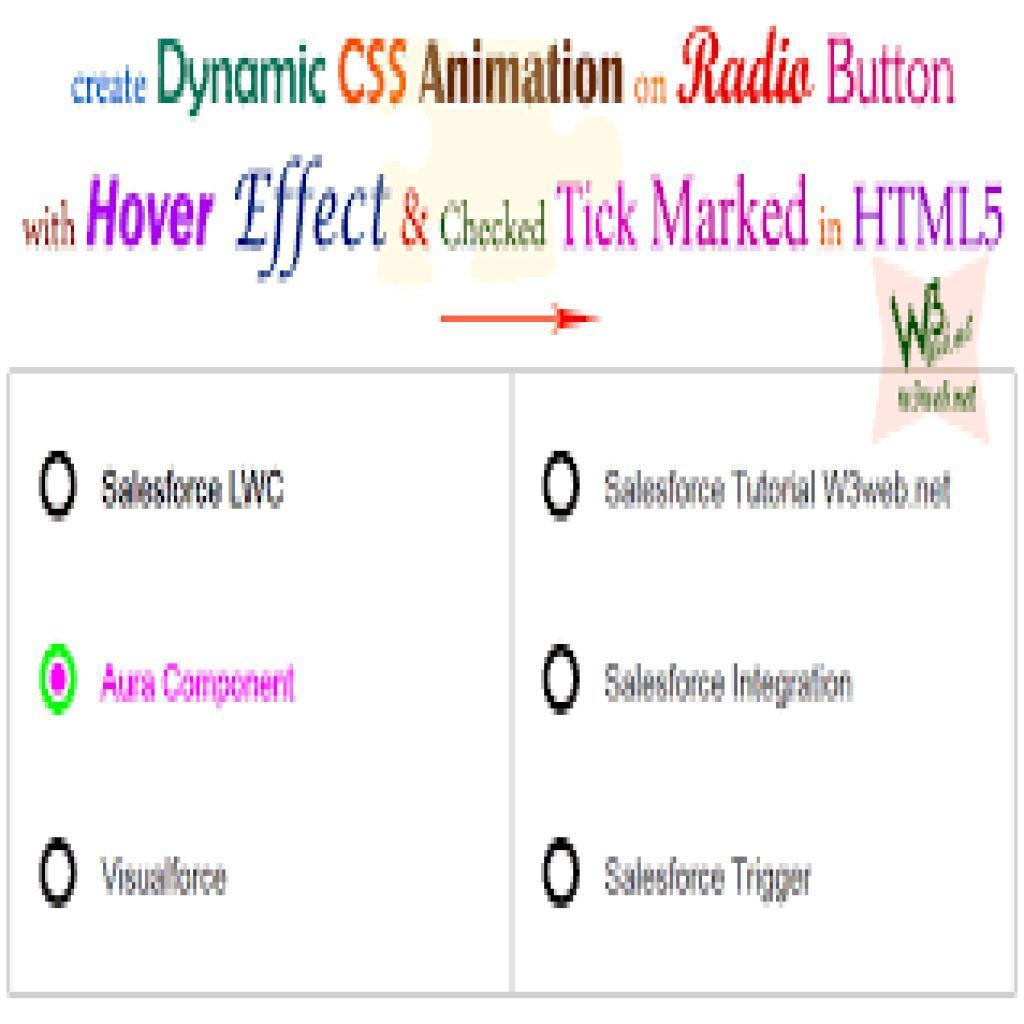label: (601, 462, 961, 509), (597, 850, 817, 908), (597, 660, 854, 709), (102, 658, 301, 712), (98, 467, 291, 514), (97, 854, 238, 903)
radio: (36, 449, 81, 530), (37, 644, 83, 723), (541, 642, 586, 716), (543, 447, 583, 524), (39, 835, 79, 909), (541, 837, 581, 911)
